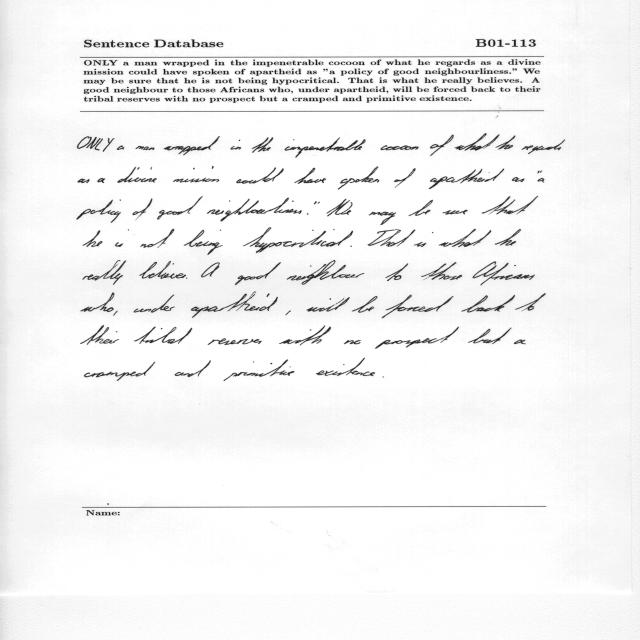word: (243, 228, 353, 253), (207, 198, 302, 222), (191, 292, 278, 318), (287, 260, 364, 285), (375, 327, 459, 349), (285, 137, 366, 158), (382, 295, 454, 318), (223, 359, 295, 381), (472, 262, 535, 286), (429, 169, 504, 189), (85, 362, 155, 381), (157, 196, 203, 220), (83, 260, 126, 285), (164, 136, 220, 155), (316, 358, 375, 376), (235, 262, 281, 285), (77, 199, 121, 223), (279, 326, 331, 346), (184, 229, 223, 255), (482, 197, 538, 215), (134, 327, 192, 344), (338, 166, 379, 190), (439, 229, 491, 247), (461, 295, 515, 312), (368, 229, 416, 247), (140, 261, 186, 279), (236, 167, 284, 184), (173, 166, 219, 183), (455, 134, 500, 151), (81, 325, 119, 345), (421, 262, 462, 280), (134, 295, 175, 313), (468, 328, 512, 344), (81, 292, 114, 312), (306, 297, 350, 312), (141, 229, 175, 248), (118, 167, 157, 183), (175, 360, 211, 377), (522, 140, 565, 154), (78, 136, 115, 152), (515, 293, 546, 311), (294, 168, 326, 184), (430, 135, 454, 156), (327, 199, 353, 216), (495, 229, 521, 246), (394, 168, 416, 188), (133, 199, 153, 221), (352, 296, 377, 313), (408, 200, 433, 216), (386, 263, 408, 281), (208, 338, 262, 345), (369, 212, 396, 225), (252, 137, 273, 153), (83, 230, 102, 247), (414, 232, 433, 247), (201, 263, 220, 278), (496, 136, 516, 150), (115, 229, 129, 247), (381, 146, 419, 151), (442, 210, 468, 215), (230, 140, 241, 150), (136, 146, 155, 150), (344, 340, 361, 344), (512, 177, 525, 182), (78, 179, 90, 183), (514, 340, 526, 344), (98, 178, 106, 183), (117, 145, 124, 150), (285, 311, 291, 316), (538, 178, 545, 182), (113, 311, 118, 316), (314, 201, 320, 204), (538, 170, 542, 174), (307, 213, 308, 215), (350, 246, 352, 247), (186, 278, 188, 279), (383, 377, 384, 378)
